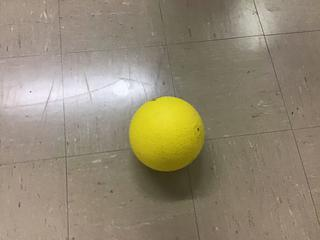power_cell: (119, 90, 216, 181)
